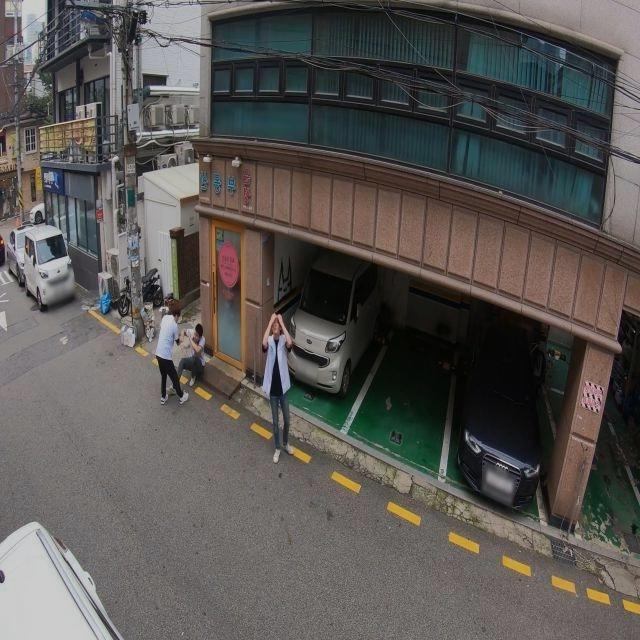non-fight: (262, 312, 291, 464), (152, 301, 188, 404), (182, 321, 209, 386)
